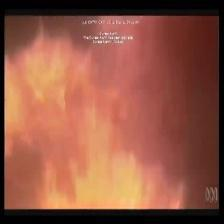fire: (4, 33, 166, 208)
